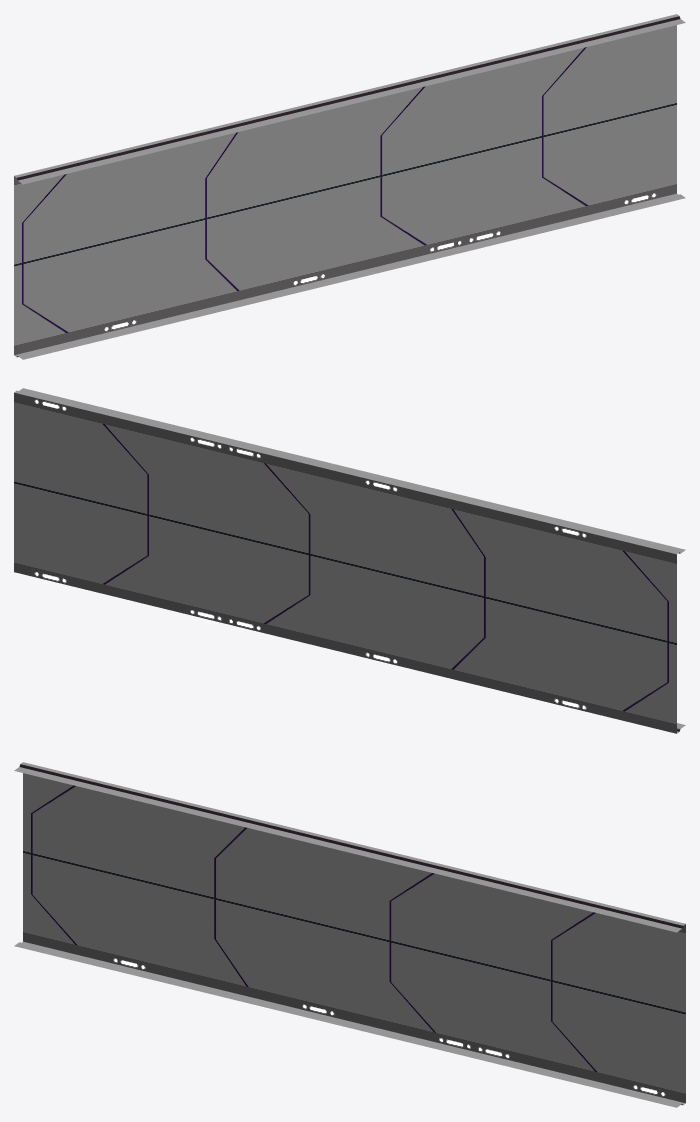
File: SM_L_SideWalk.fbx
3 renders of one model, top to bottom at view 1: azimuth 30°, elevation 25°; view 2: azimuth 150°, elevation 25°; view 3: azimuth 330°, elevation 25°, orthographic.
Parts seen in each view (by area): view 1: SM_L_SideWalk; view 2: SM_L_SideWalk; view 3: SM_L_SideWalk.
Boxes of the visible parts, x1,y1,x2,y2 form: SM_L_SideWalk: [14, 14, 685, 359]; SM_L_SideWalk: [14, 388, 685, 733]; SM_L_SideWalk: [14, 762, 685, 1107].
Bounding box in the file's own units: 4448 × 1151 × 105.
